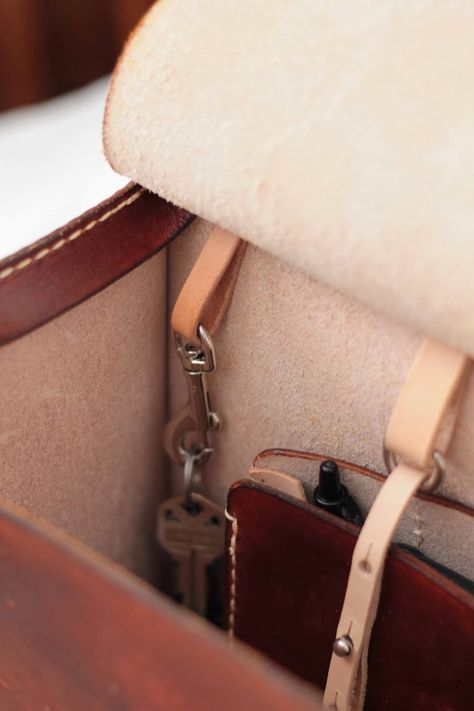cuero: (2, 177, 474, 711)
